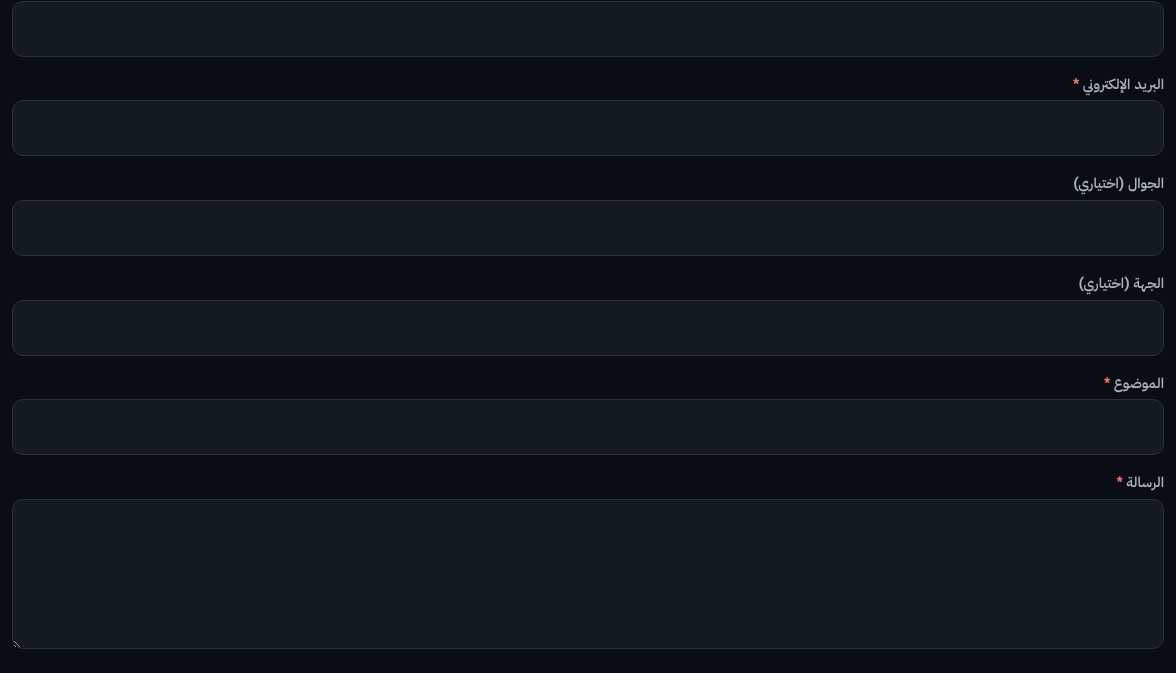
Test: the contact form › shows why a send was refused without discarding what was typed
Step 1. Type "نص طويل كتبه الزائر ولا يجوز فقدانه." into the text box with test id "contact-form-message" → (588, 574), box 12,499 -> 1164,649
(page scrolled)
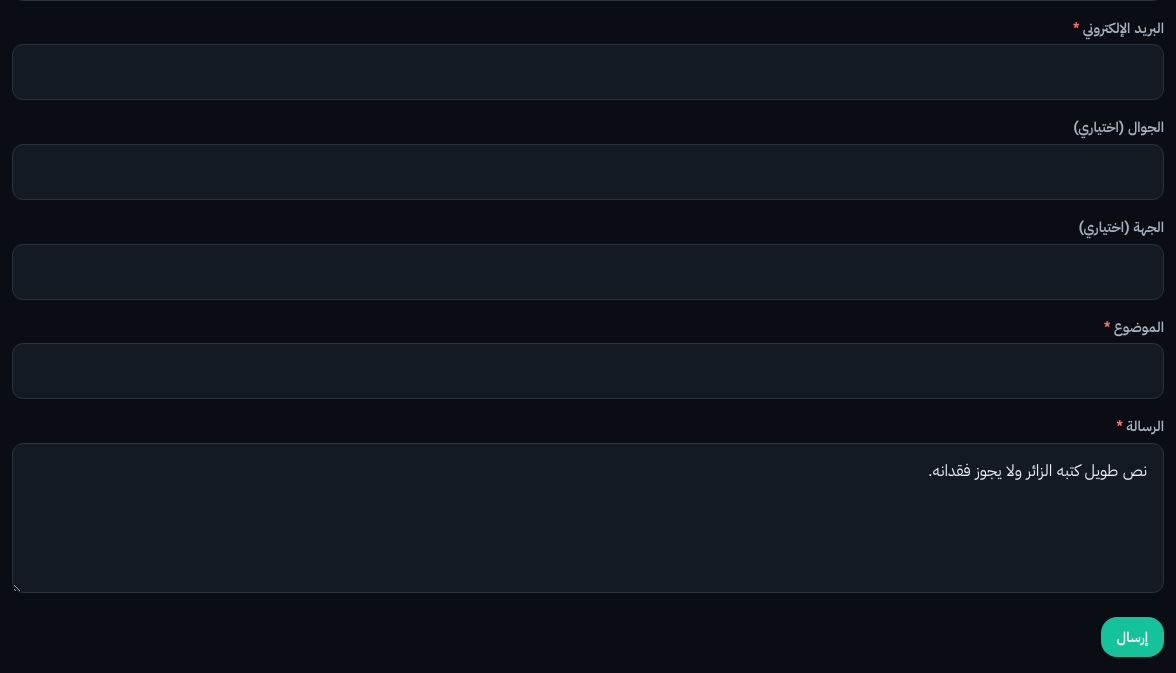
Step 2. Click the button with test id "contact-form-submit" → (1132, 637), box 1101,617 -> 1164,657
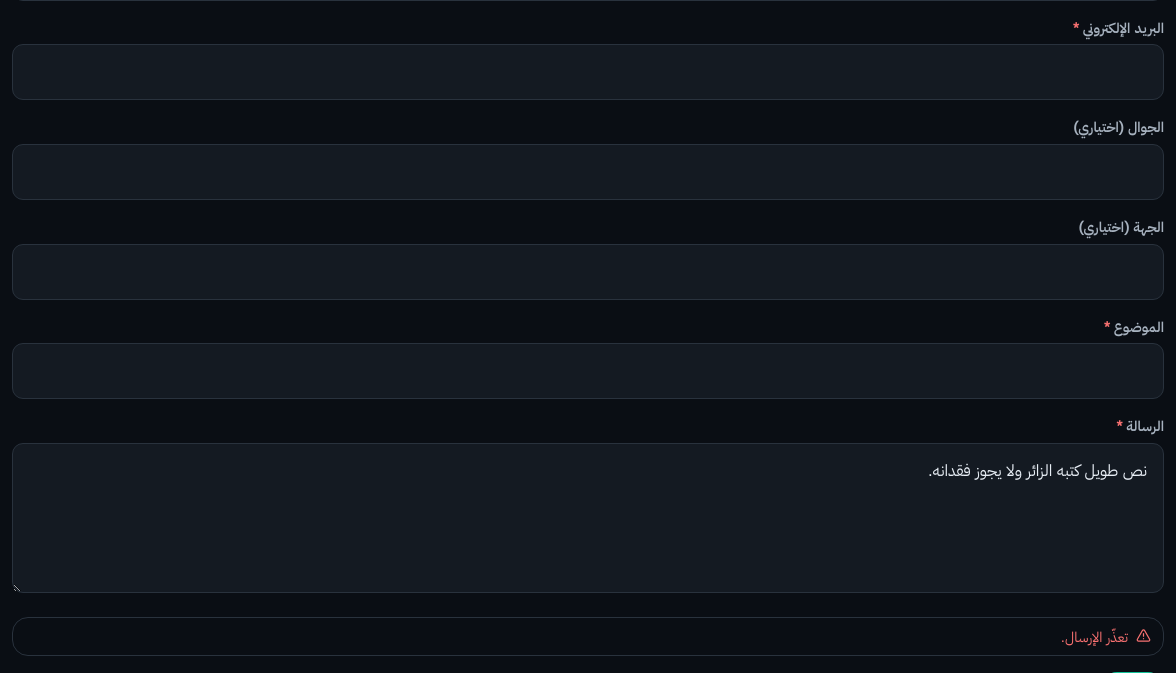
Expected: the message "تعذّر الإرسال." is shown, 12,617 -> 1164,656
